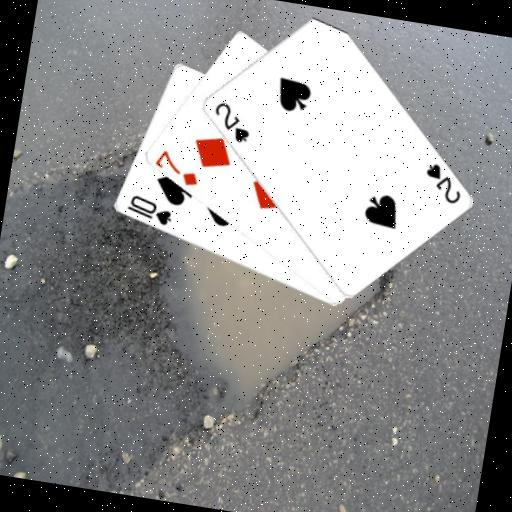10S: (121, 190, 175, 228)
2S: (206, 98, 255, 146), (418, 158, 467, 206)
7D: (149, 145, 203, 189)
